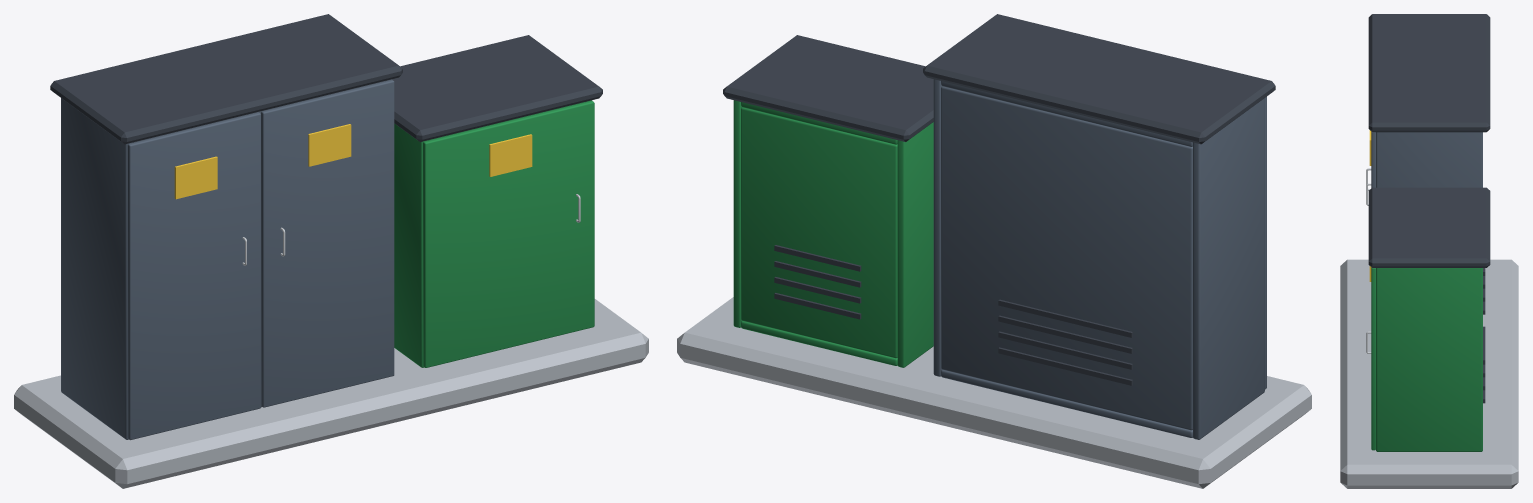
The model's file is caixa_equipamentos.glb.
The picture shows the model from 3 angles, left to right: view 1: azimuth 30°, elevation 25°; view 2: azimuth 150°, elevation 25°; view 3: azimuth 270°, elevation 25°; orthographic projection. The views are drawn at different scales.
Visible parts, largest first — view 1: caixa_equipamentos, porta_2, porta_1, porta_3; view 2: caixa_equipamentos; view 3: caixa_equipamentos, porta_3, porta_2.
Boxes of the visible parts, bbox=[...] form: caixa_equipamentos: bbox=[14, 14, 648, 488]; porta_2: bbox=[261, 79, 394, 407]; porta_1: bbox=[127, 112, 260, 440]; porta_3: bbox=[423, 100, 594, 367]; caixa_equipamentos: bbox=[677, 14, 1311, 488]; caixa_equipamentos: bbox=[1340, 14, 1518, 488]; porta_3: bbox=[1366, 266, 1375, 450]; porta_2: bbox=[1366, 130, 1375, 205].
Bounding box in the file's own units: 2.8 × 1.71 × 1.
Materials: 1 (1 with a texture image).
